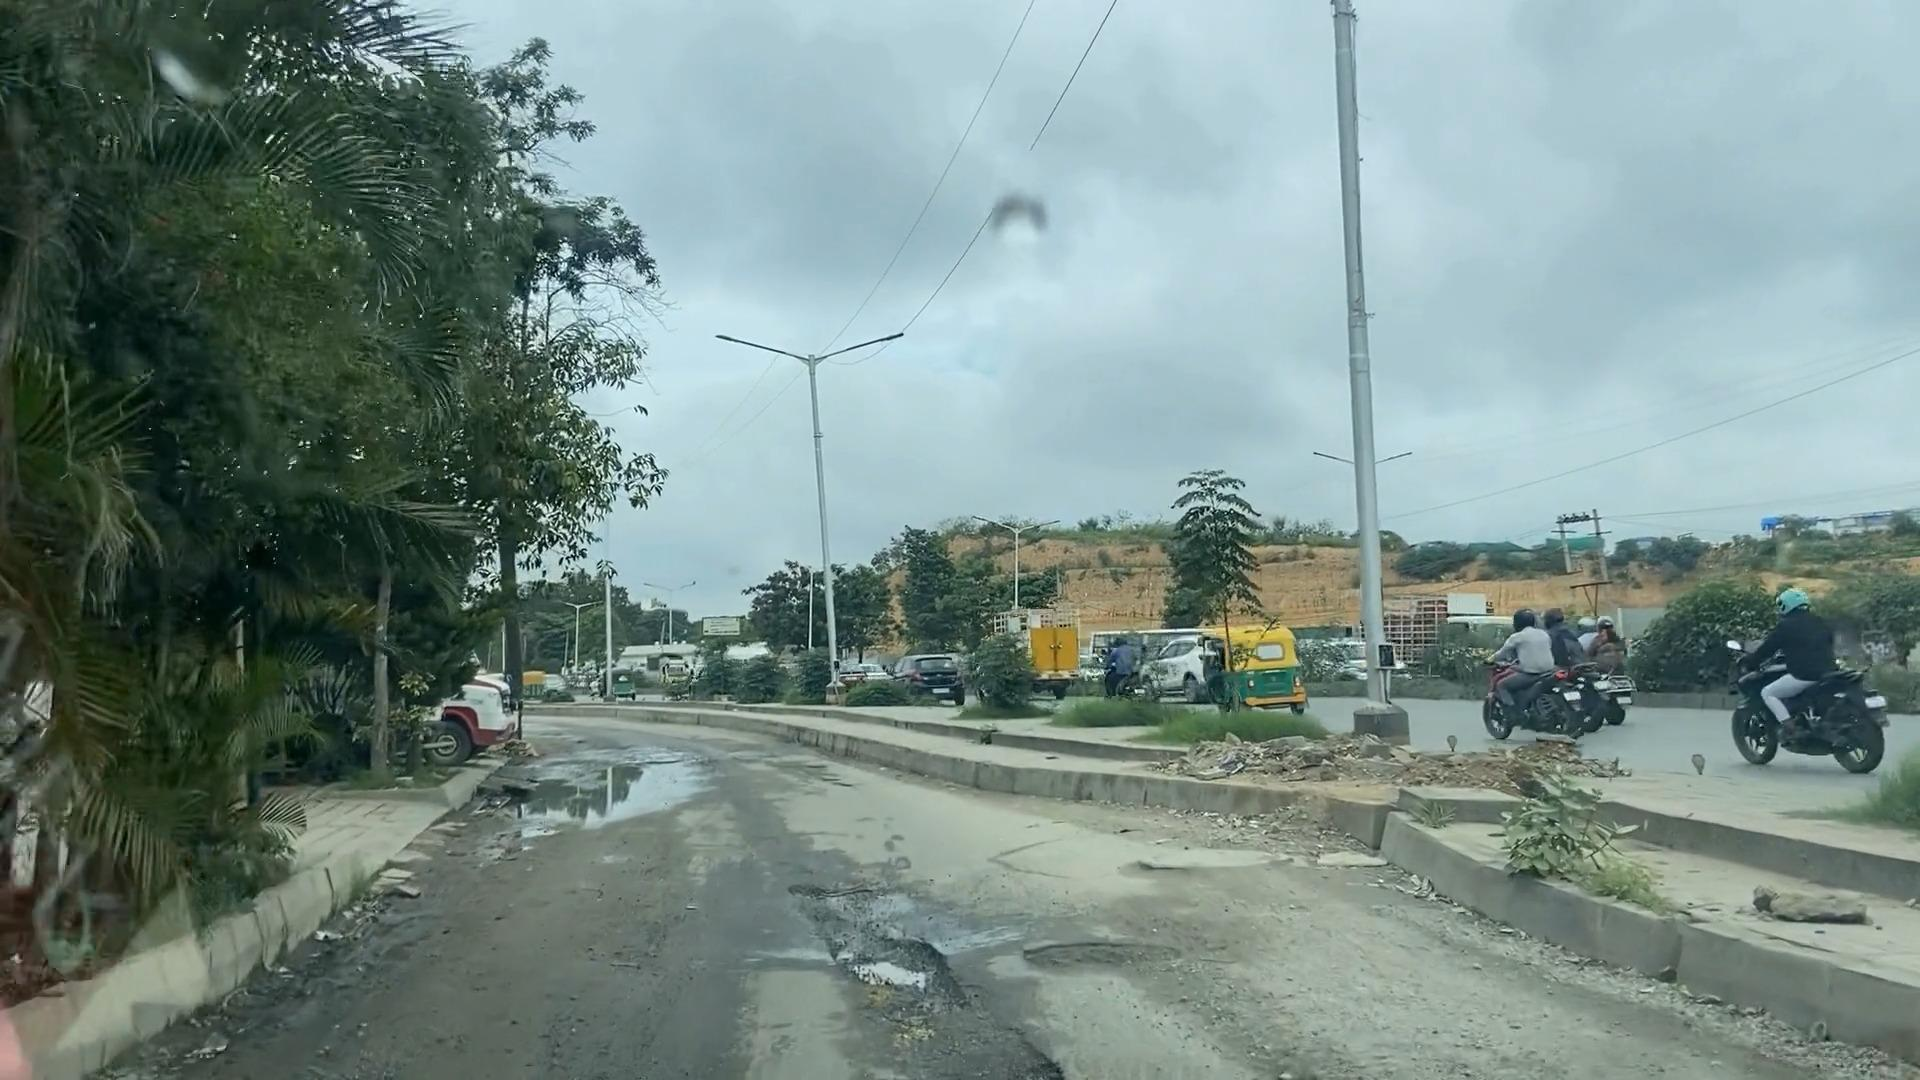RoadDamages: (766, 853, 976, 1014), (844, 1017, 1087, 1080), (1006, 930, 1211, 986), (1113, 836, 1320, 886)
